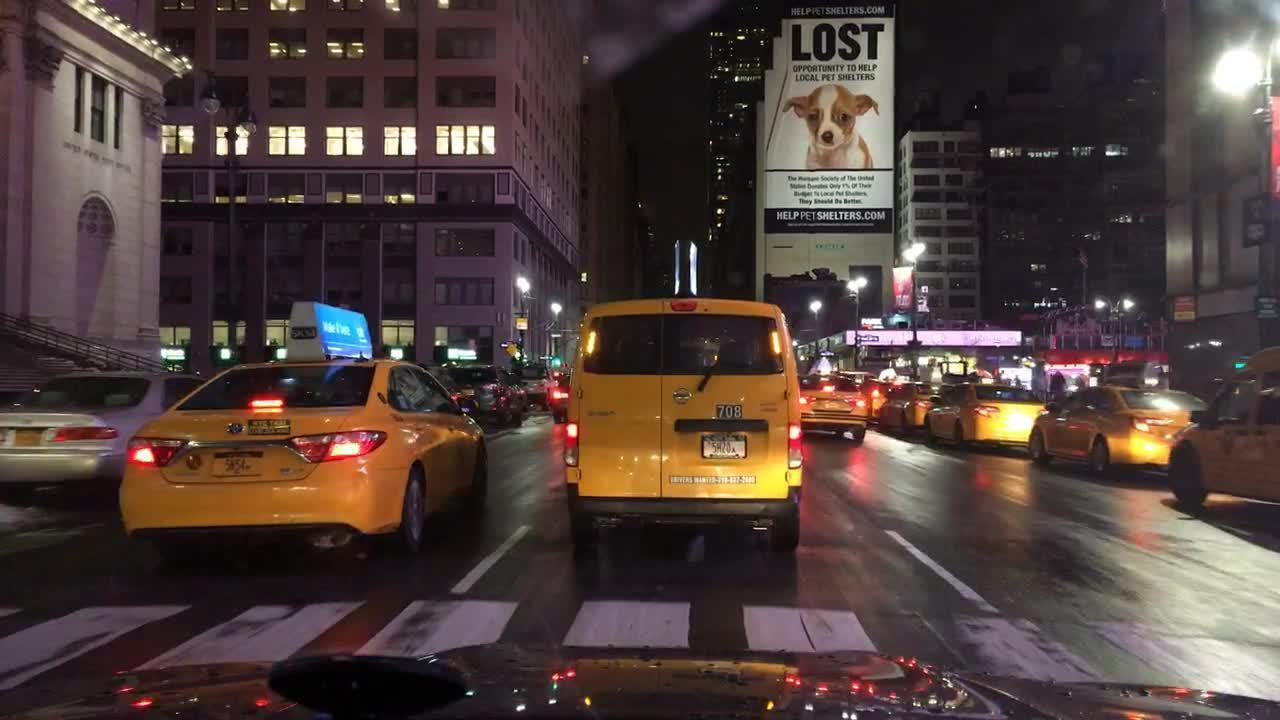Nissan: (671, 386, 694, 407)
